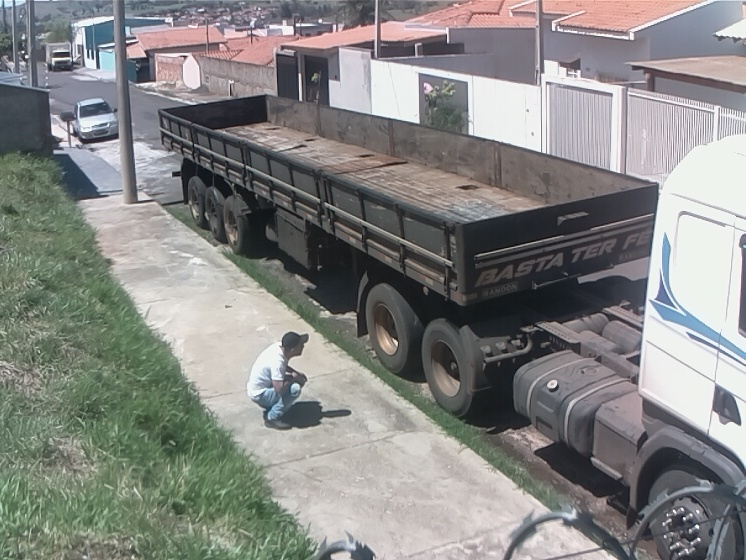person: (244, 330, 315, 430)
